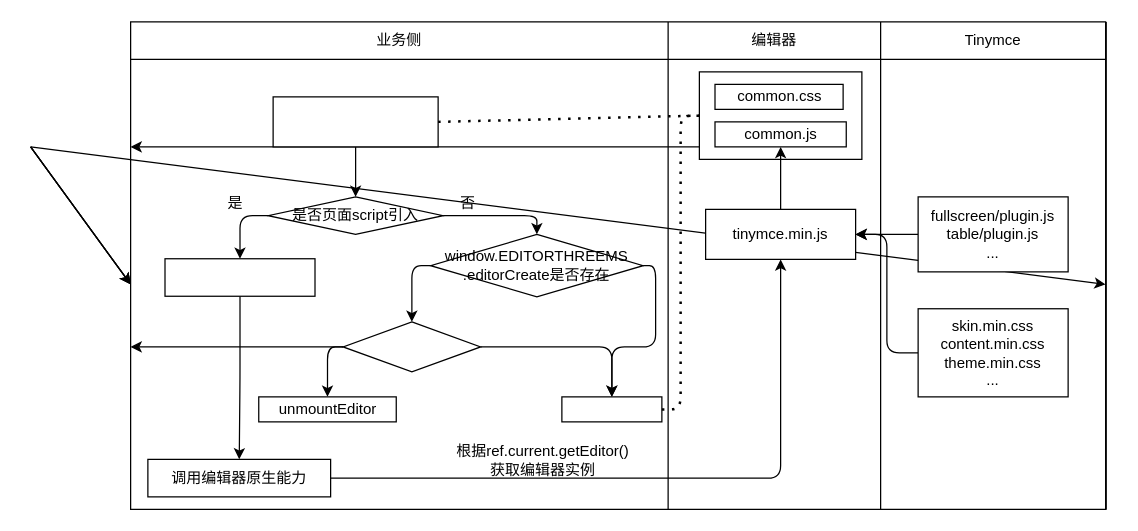
The diagram is 1138 pixels wide and 531 high, and some of its shapes have lost their labels. The centre of each missing label's shape, as x and y in pixels:
"editorCreate(config)" belongs at point 239,277.
"script是否存在" belongs at point 411,346.
"初始化页面，引入资源文件" belongs at point 355,121.
"动态加载资源" belongs at point 611,409.
